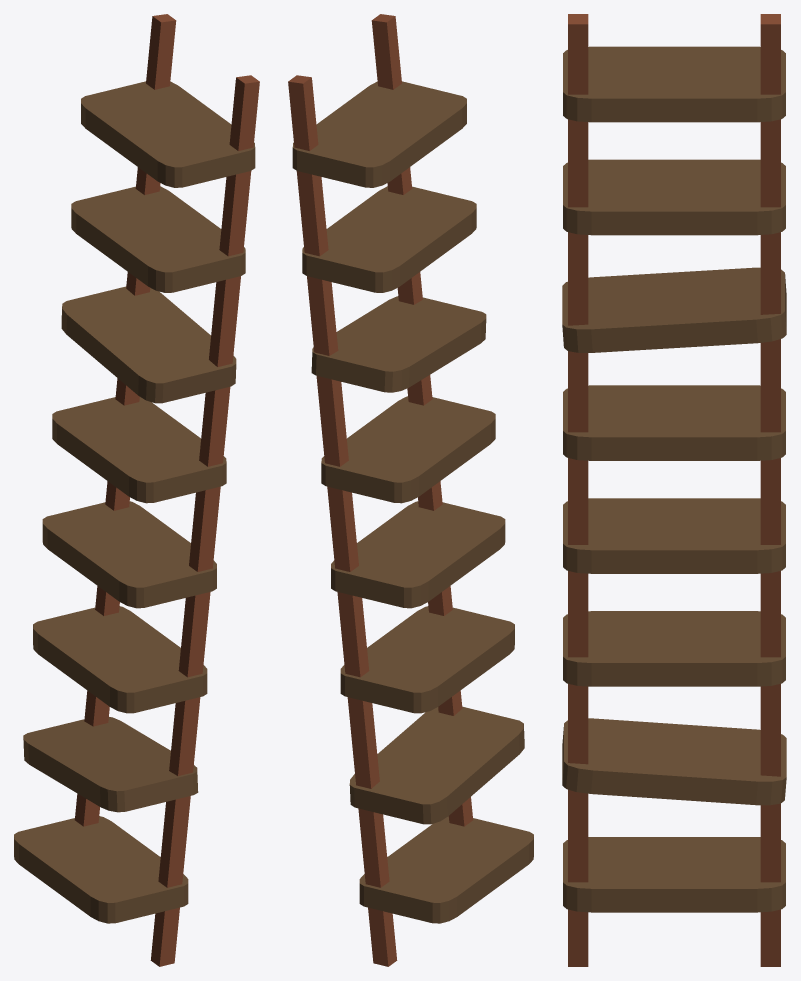
Rendered from stairs2.fbx.
3 renders of one model, left to right at view 1: azimuth 30°, elevation 25°; view 2: azimuth 150°, elevation 25°; view 3: azimuth 270°, elevation 25°, orthographic. The views are drawn at different scales.
Visible parts, largest first — view 1: Cube; view 2: Cube; view 3: Cube.
Part boxes in pixels (x1,y1,x2,y2): Cube: [14, 14, 259, 966]; Cube: [288, 14, 533, 966]; Cube: [562, 14, 786, 966].
Size of the model in its own units: 76.83 by 397 by 81.42.
